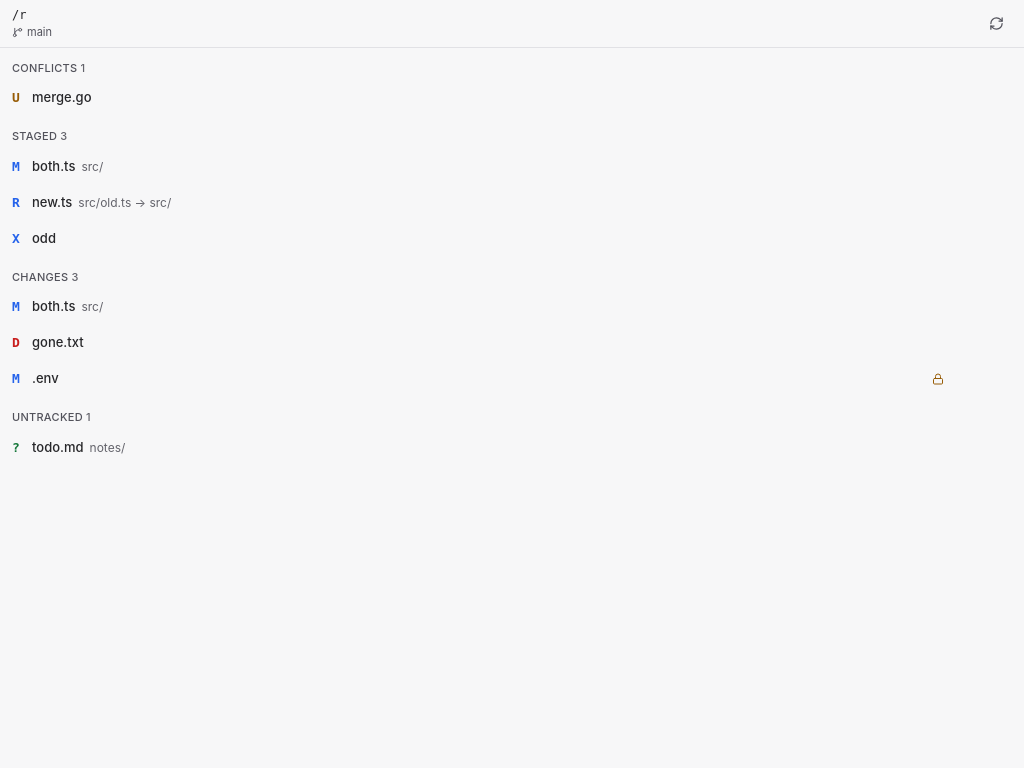
ChangesView › an open diff whose file is no longer changed closes its tab
Click the button "D gone.txt". click: x=35, y=352
box: [0,325,956,361]
Wait 5000 ms
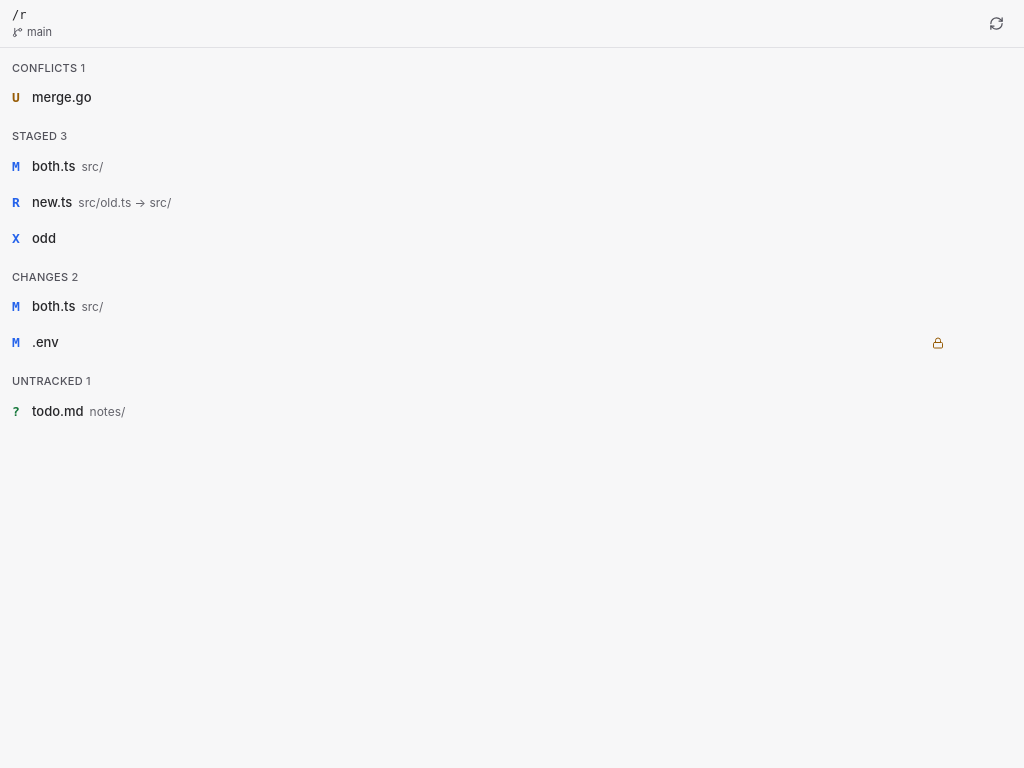
Expected: the element "Staged" is shown, [0,116,1023,256]
Result: the button "gone.txt" is gone
